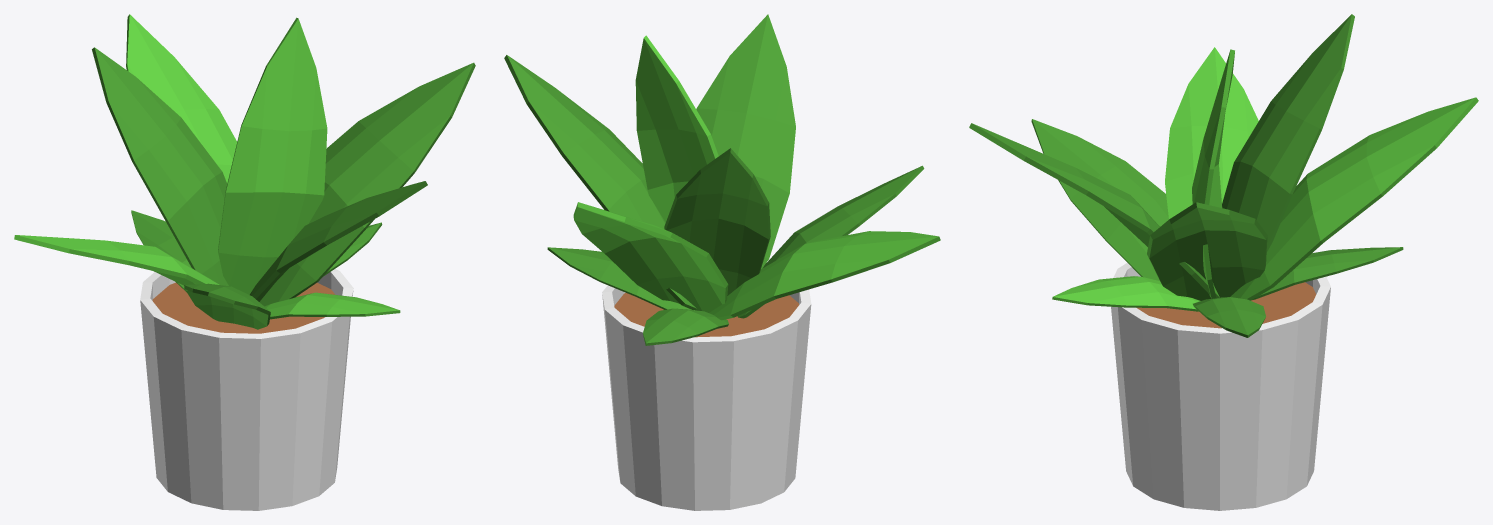
The model's file is Prop_Homeplant_01.fbx.
The picture shows the model from 3 angles, left to right: view 1: azimuth 30°, elevation 25°; view 2: azimuth 150°, elevation 25°; view 3: azimuth 270°, elevation 25°; orthographic projection. The views are drawn at different scales.
Parts seen in each view (by area): view 1: Prop_Homeplant_01; view 2: Prop_Homeplant_01; view 3: Prop_Homeplant_01.
Boxes of the visible parts, x1,y1,x2,y2 form: Prop_Homeplant_01: [14, 14, 475, 510]; Prop_Homeplant_01: [504, 14, 940, 510]; Prop_Homeplant_01: [969, 14, 1478, 510].
Size of the model in its own units: 50.94 by 46.89 by 48.1.
